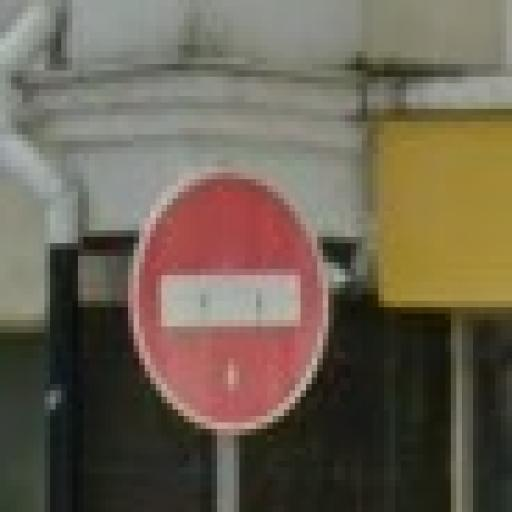traffic_sign: (129, 161, 329, 430)
